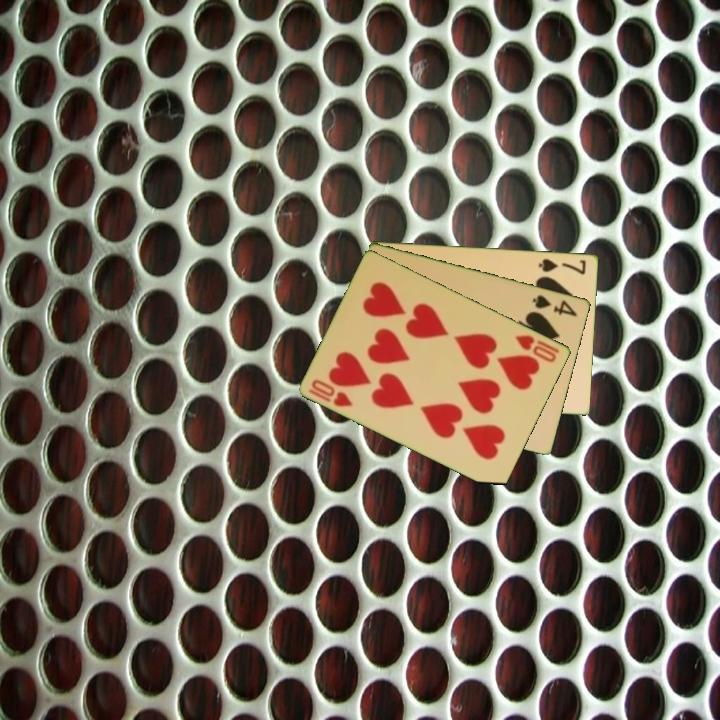10h: (305, 375, 356, 410), (512, 331, 563, 365)
4s: (529, 291, 580, 319)
7s: (535, 255, 589, 277)
